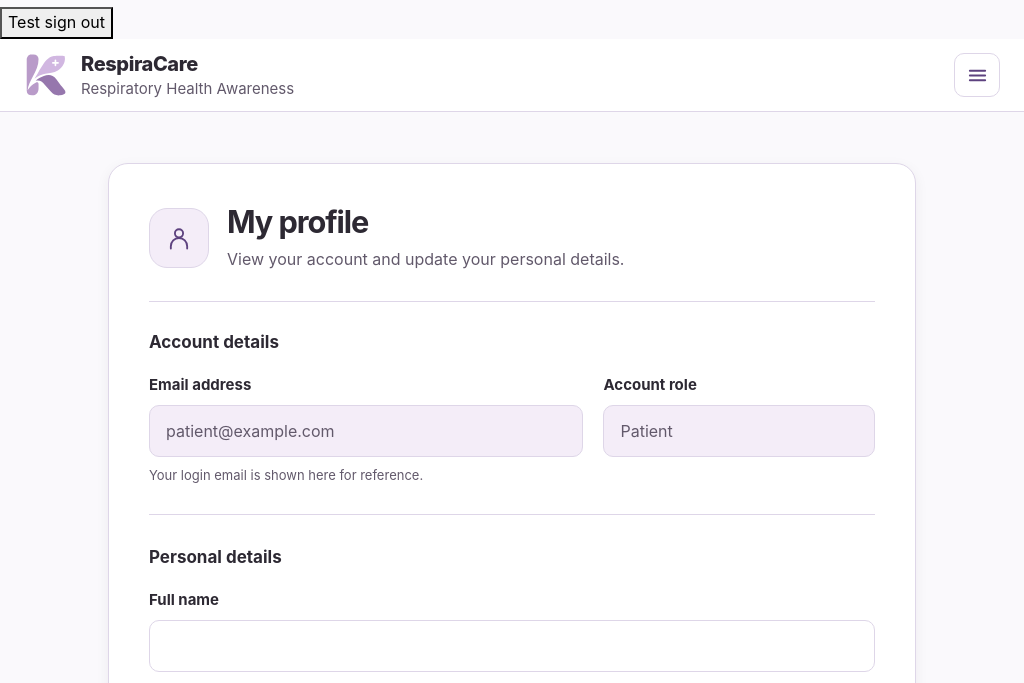
Test: editable account profile › allows an older account to add its missing profile details
Type "Updated Patient" into the field labelled "Full name".
click(512, 646); type("Updated Patient")  # box [149,620,875,672]
(page scrolled)
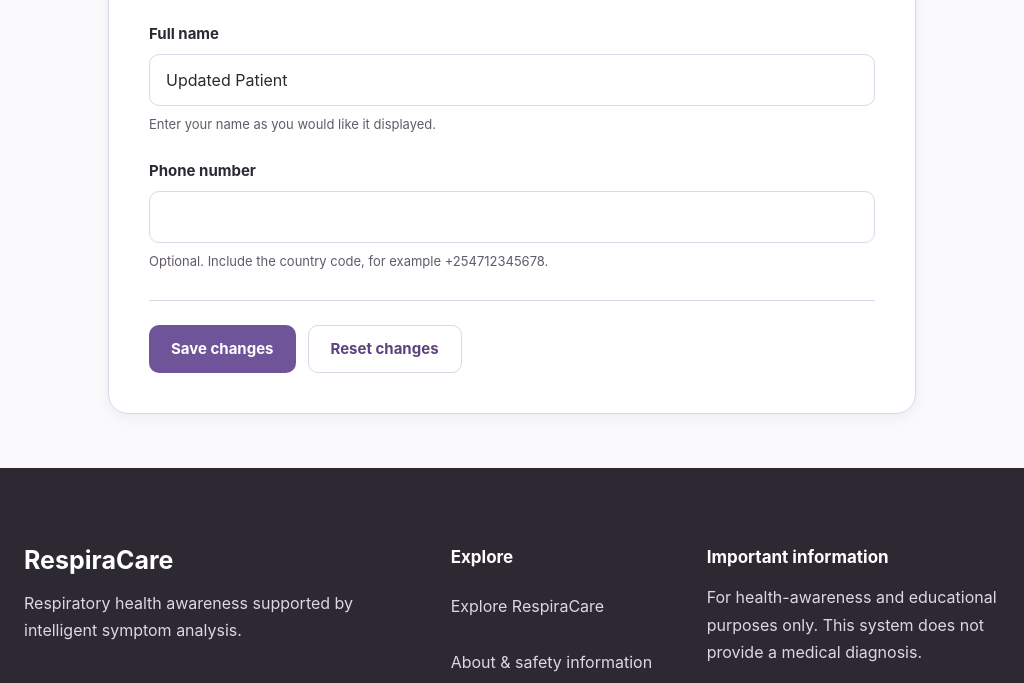
Click the button "Save changes".
click(222, 349)  # box [149,325,296,373]
(page scrolled)
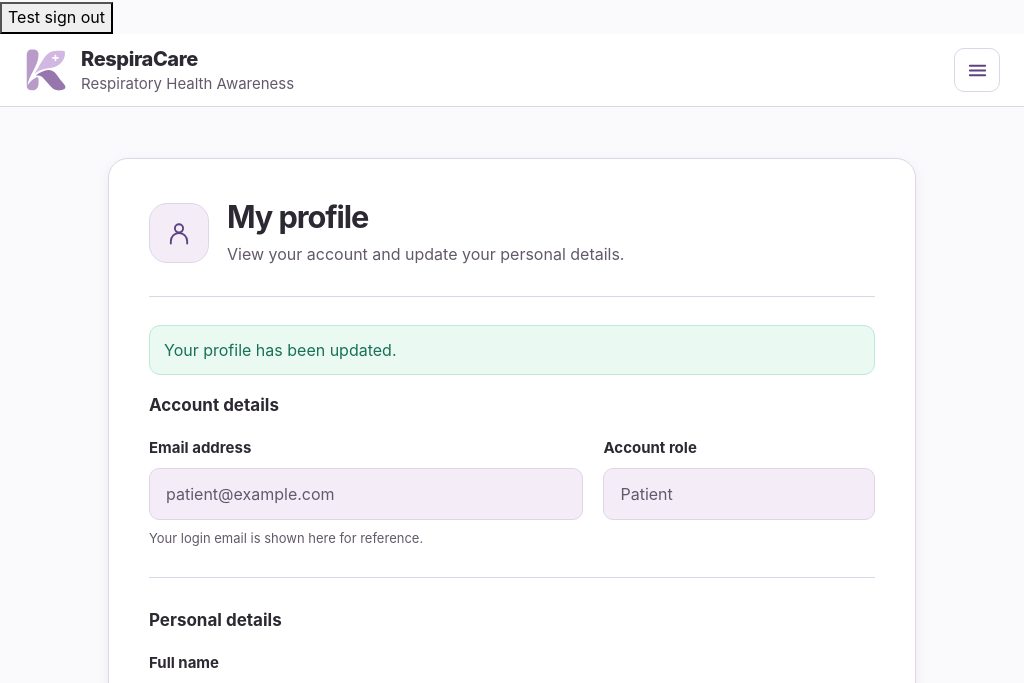
Expected: the text "Your profile has been updated." is shown, [149,325,875,375]
